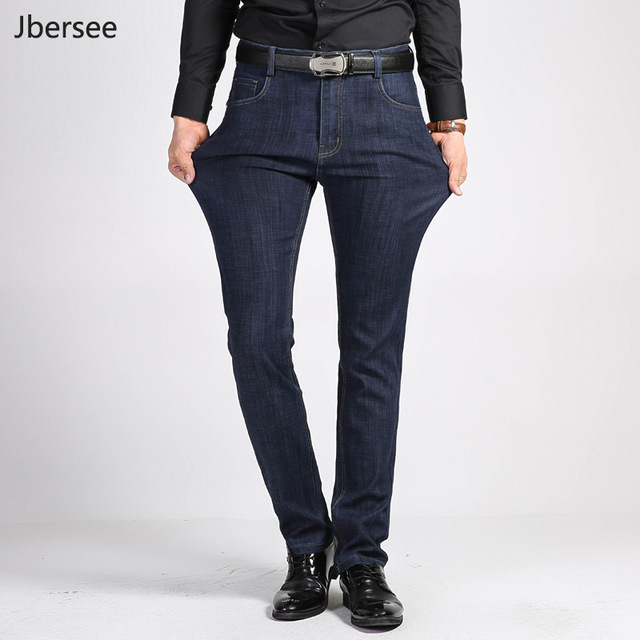Jeans: (213, 43, 437, 561)
